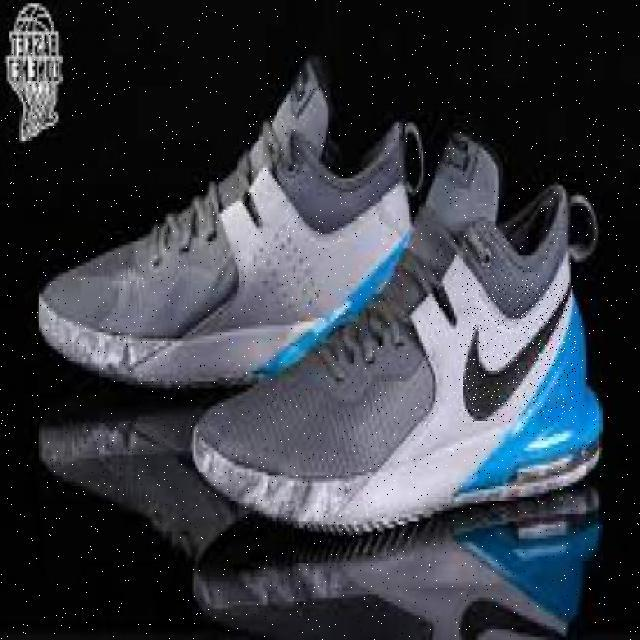Nike: (462, 283, 576, 423)
